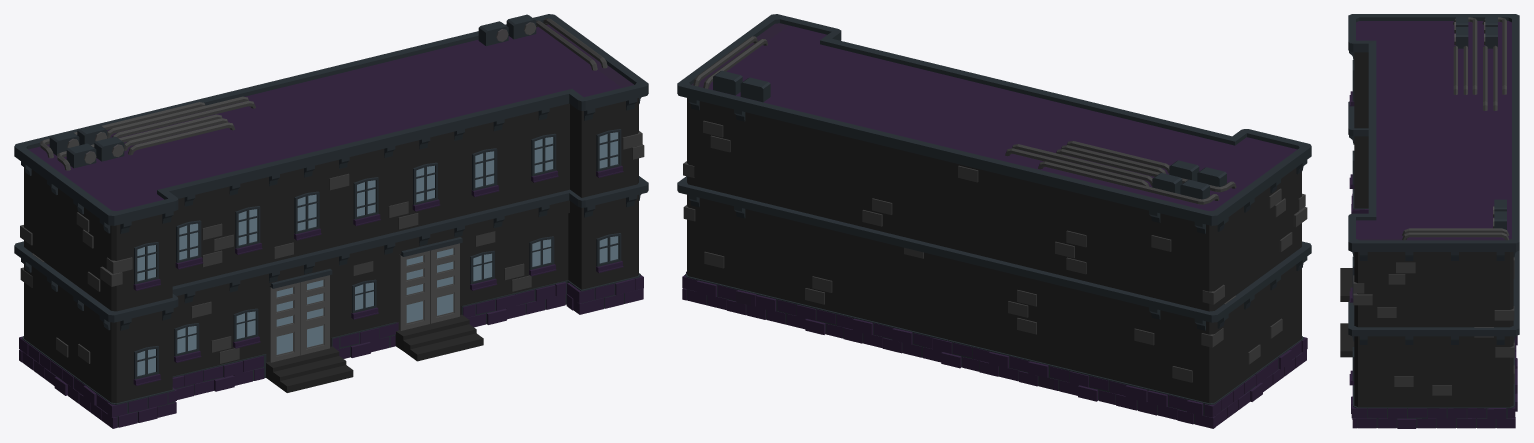
The model's file is 2Story Wide 2Doors.glb.
3 renders of one model, left to right at view 1: azimuth 30°, elevation 25°; view 2: azimuth 150°, elevation 25°; view 3: azimuth 270°, elevation 25°, orthographic. The views are drawn at different scales.
Visible parts, largest first — view 1: 2Story_Wide_2Doors; view 2: 2Story_Wide_2Doors; view 3: 2Story_Wide_2Doors.
Boxes of the visible parts, bbox=[...] form: 2Story_Wide_2Doors: bbox=[14, 14, 648, 428]; 2Story_Wide_2Doors: bbox=[677, 14, 1311, 428]; 2Story_Wide_2Doors: bbox=[1340, 14, 1519, 428].
Size of the model in its own units: 16.39 by 6.6 by 5.41.
1 material, 1 textured.
